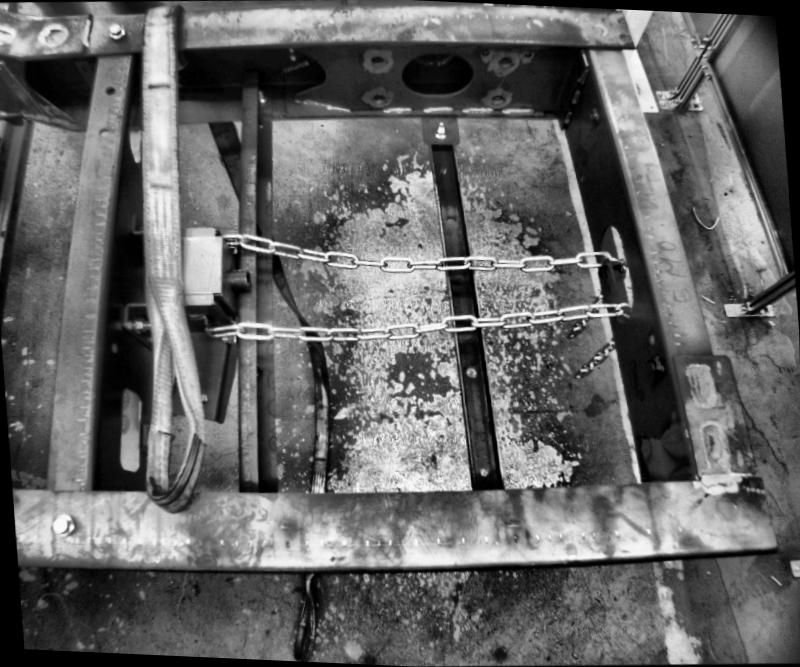bolt: (106, 22, 127, 46), (55, 514, 76, 536), (133, 320, 157, 338), (646, 354, 665, 375), (249, 87, 268, 104), (433, 120, 446, 142), (590, 108, 600, 123)
bracket: (594, 255, 618, 305)
hole: (398, 47, 476, 100), (113, 382, 148, 481), (366, 52, 386, 69), (373, 93, 389, 108), (496, 55, 512, 69), (464, 367, 478, 382), (490, 94, 505, 107), (443, 213, 455, 227), (478, 468, 490, 482), (108, 342, 119, 356), (97, 127, 109, 139), (644, 334, 656, 346), (104, 84, 115, 96), (439, 166, 447, 174)
